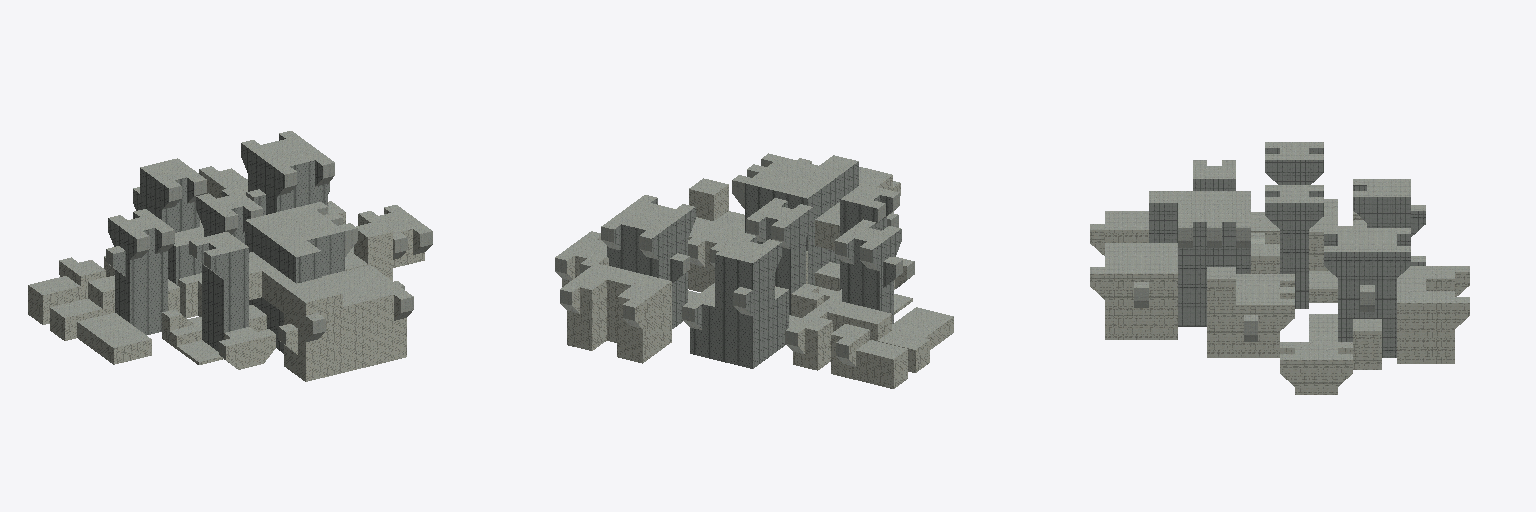
The picture shows the model from 3 angles: view 1: azimuth 30°, elevation 25°; view 2: azimuth 150°, elevation 25°; view 3: azimuth 270°, elevation 25°; orthographic projection.
Visible parts, largest first — view 1: 67; view 2: 67; view 3: 67.
Boxes of the visible parts, <box> form: 67: <box>28,131,432,381</box>; 67: <box>555,153,953,388</box>; 67: <box>1090,142,1469,394</box>.
Bounding box in the file's own units: 717 × 205 × 666.
Materials: 3 (3 with a texture image).